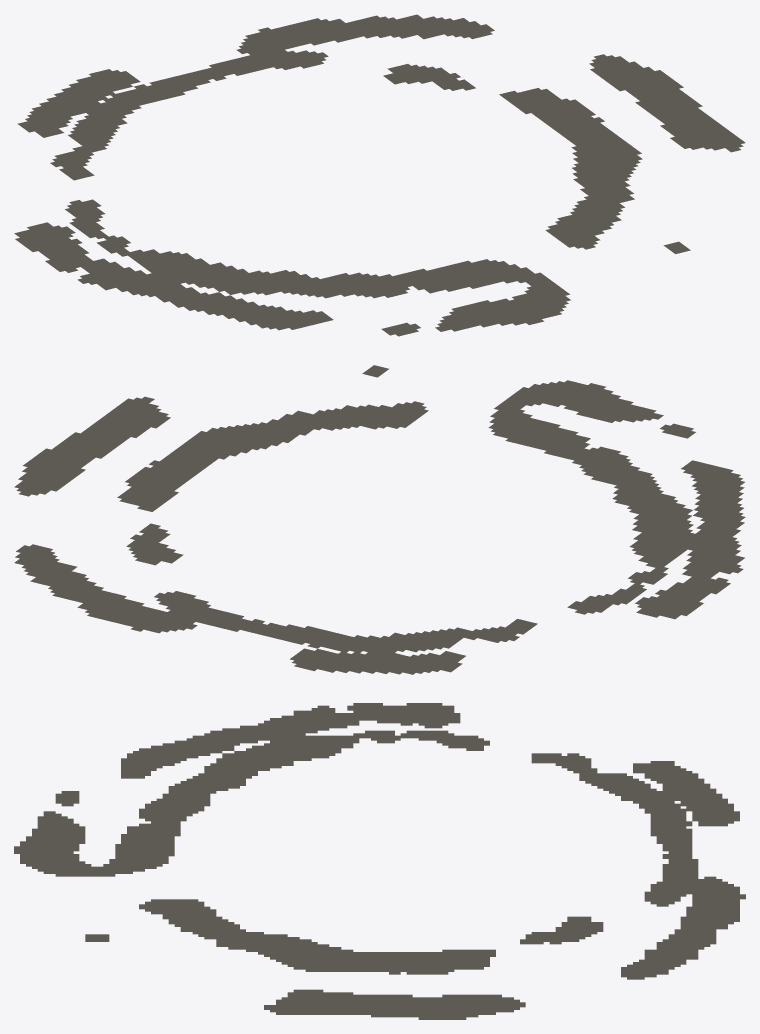
The model's file is Isl-atoll5-NoBuildArea.fbx.
3 views of the same model, one above another, from view 1: azimuth 30°, elevation 25°; view 2: azimuth 150°, elevation 25°; view 3: azimuth 270°, elevation 25° (orthographic).
Parts seen in each view (by area): view 1: Isl-atoll5-NoBuildArea; view 2: Isl-atoll5-NoBuildArea; view 3: Isl-atoll5-NoBuildArea.
Part boxes in pixels (bbox=[...]): Isl-atoll5-NoBuildArea: bbox=[14, 14, 745, 336]; Isl-atoll5-NoBuildArea: bbox=[14, 365, 745, 674]; Isl-atoll5-NoBuildArea: bbox=[14, 703, 745, 1019].
Bounding box in the file's own units: 126 × 0 × 123.
